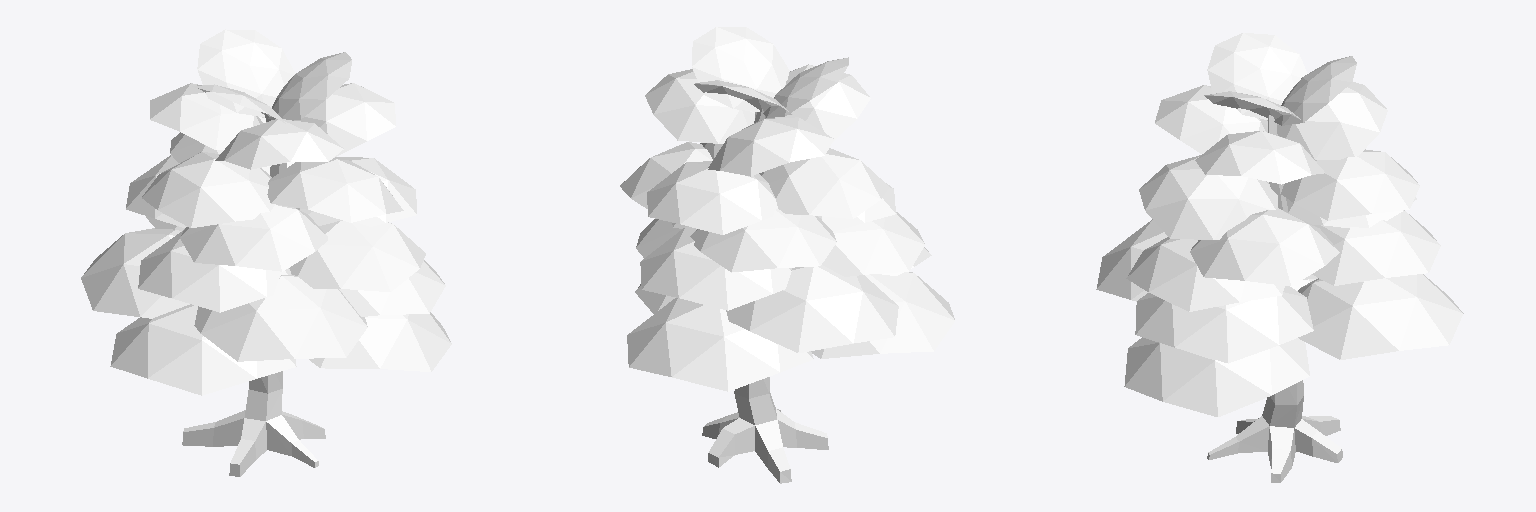
File: broadleavedtreeB_mesh.obj
3 renders of one model, left to right at view 1: azimuth 30°, elevation 25°; view 2: azimuth 150°, elevation 25°; view 3: azimuth 270°, elevation 25°, orthographic.
Visible parts, largest first — view 1: Default; view 2: Default; view 3: Default.
Boxes of the visible parts, box(x1,y1,x2,y2) form: Default: box(81, 29, 451, 476); Default: box(620, 27, 954, 483); Default: box(1096, 33, 1463, 482).
Bounding box in the file's own units: 5 × 6.02 × 5.1.